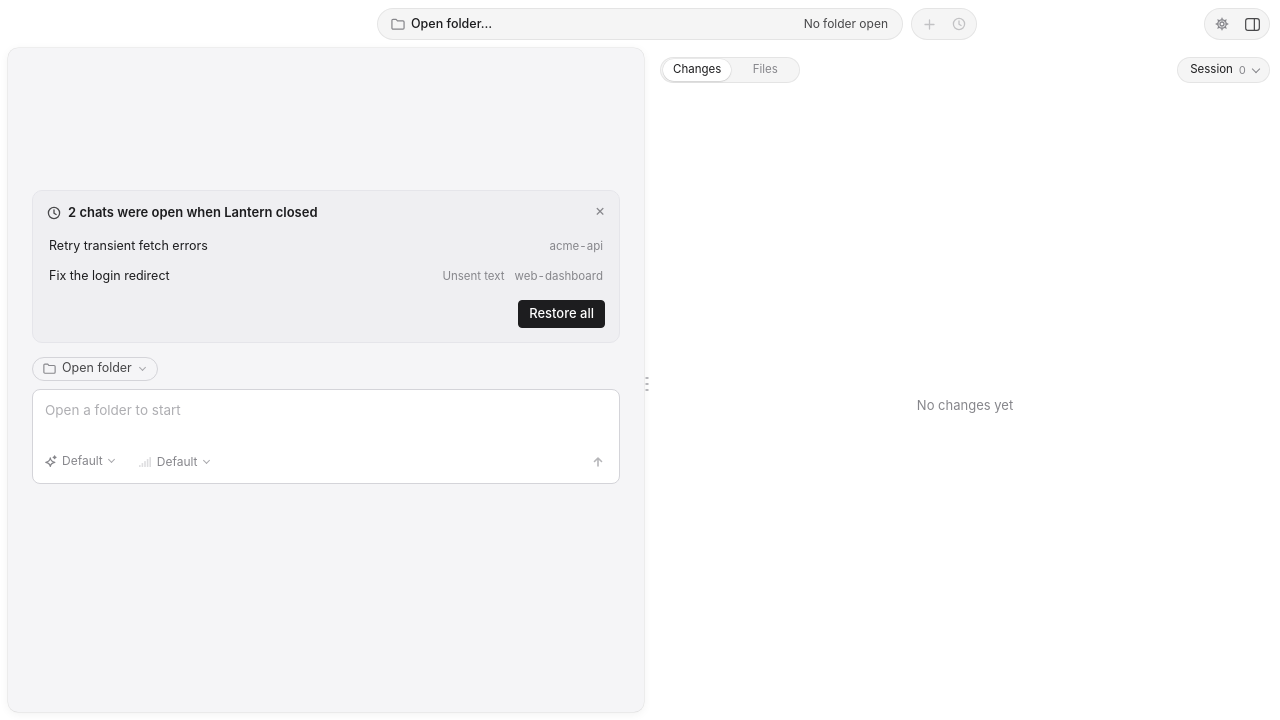
Test: restoring chats at launch › brings every chat back, the one that was on screen on screen with its unsent text
The width and height of the screenshot is (1280, 720).
Expected: the text "2 chats were open when Lantern closed" is shown, [47, 203, 318, 222]
Click the button "Restore all" at (562, 314), box [518, 300, 605, 328]
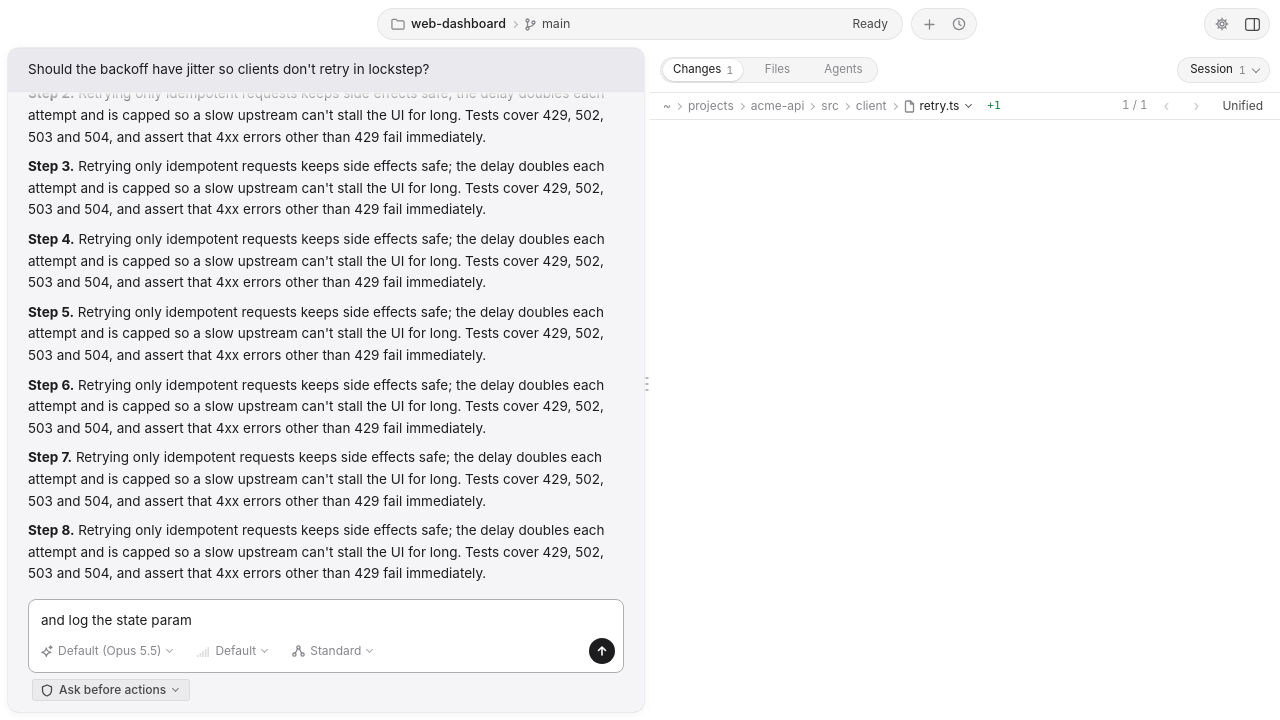
Now the text "Should the backoff have jitter so clients don't retry in lockstep?" is shown, box [8, 48, 644, 92]
Now the text box holds "and log the state param", box [41, 610, 615, 630]
Now the text "were open when Lantern closed" is gone
